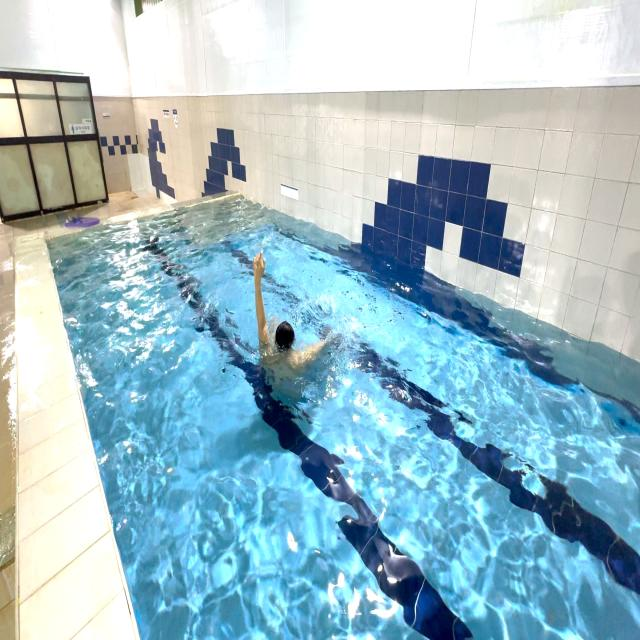Drowning: (237, 233, 346, 431)
